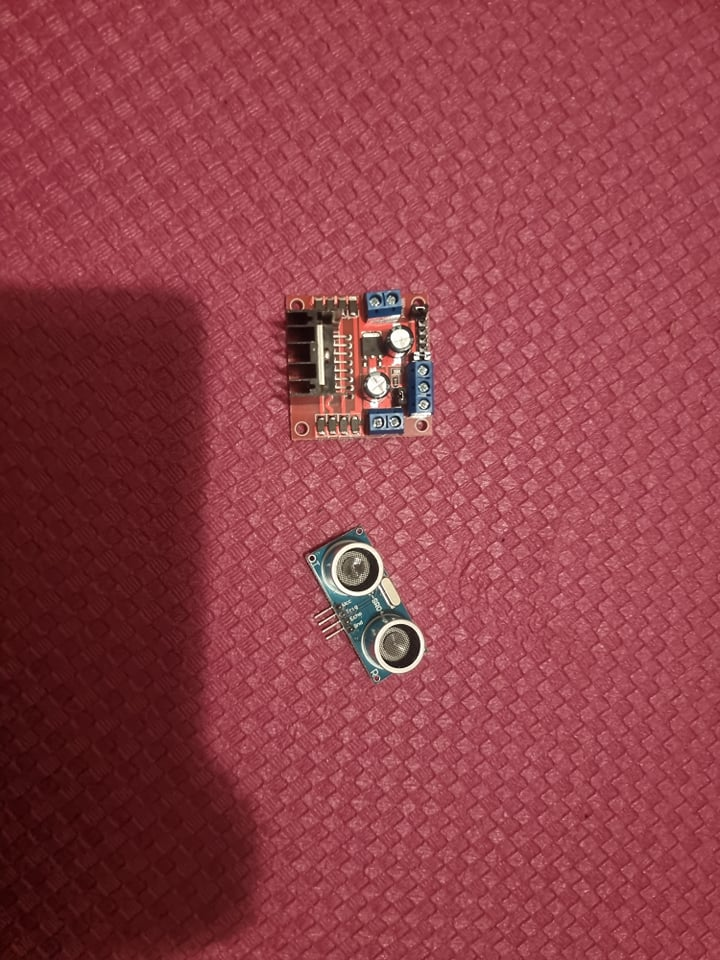MOTOR: (277, 287, 435, 439)
SENSOR: (308, 523, 433, 688)
